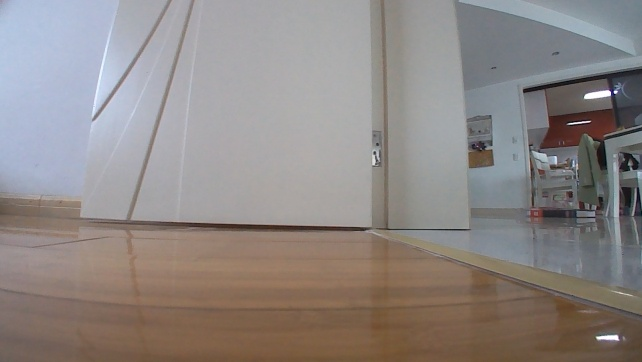door_anno: (73, 0, 382, 228)
